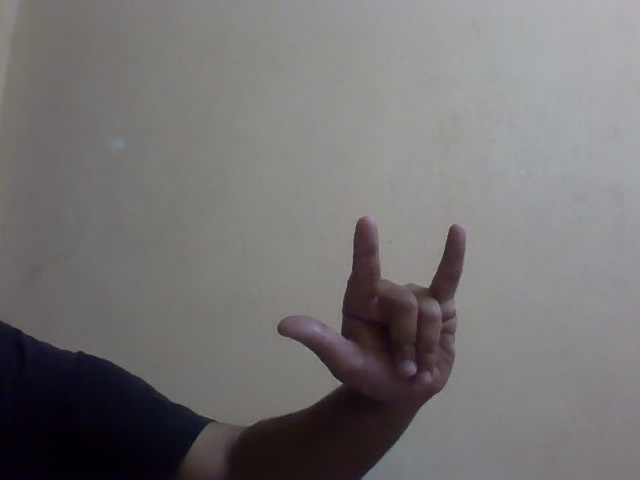I love you: (271, 209, 498, 412)
